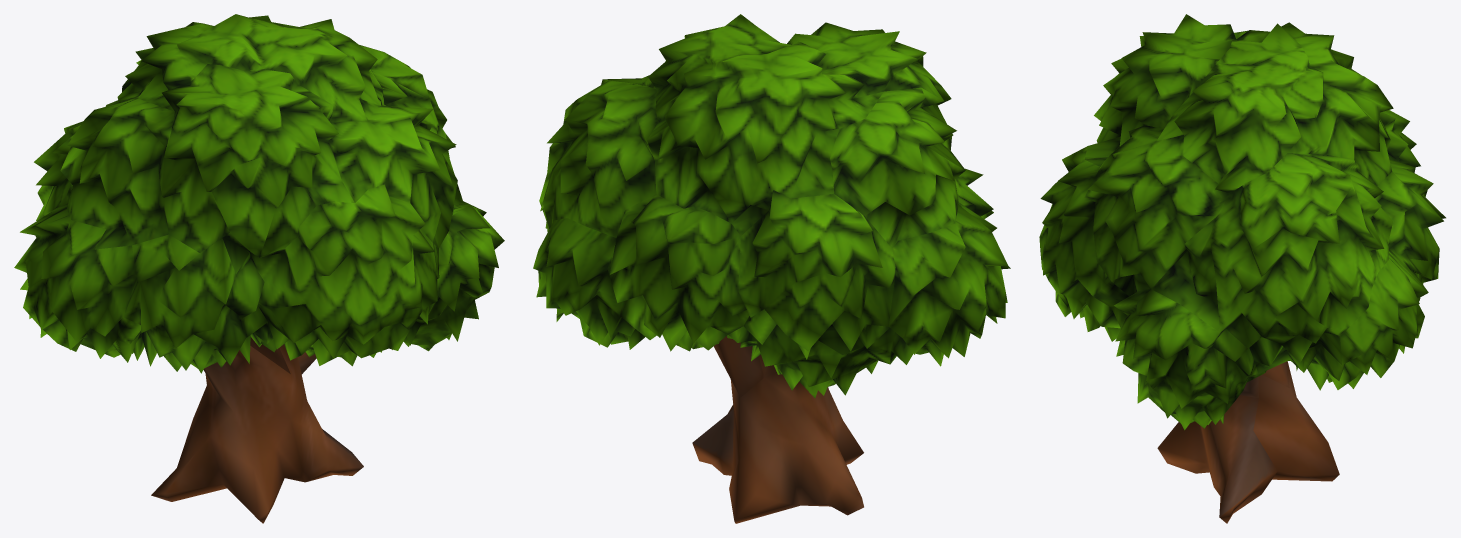
The model's file is M_Oak.fbx.
3 renders of one model, left to right at view 1: azimuth 30°, elevation 25°; view 2: azimuth 150°, elevation 25°; view 3: azimuth 270°, elevation 25°, orthographic. The views are drawn at different scales.
Visible parts, largest first — view 1: Tree Trunk_LOD2.001; view 2: Tree Trunk_LOD2.001; view 3: Tree Trunk_LOD2.001.
Boxes of the visible parts, box(x1,y1,x2,y2) form: Tree Trunk_LOD2.001: box(14, 14, 504, 523); Tree Trunk_LOD2.001: box(533, 14, 1010, 523); Tree Trunk_LOD2.001: box(1039, 14, 1445, 523).
Size of the model in its own units: 291 by 289 by 247.
